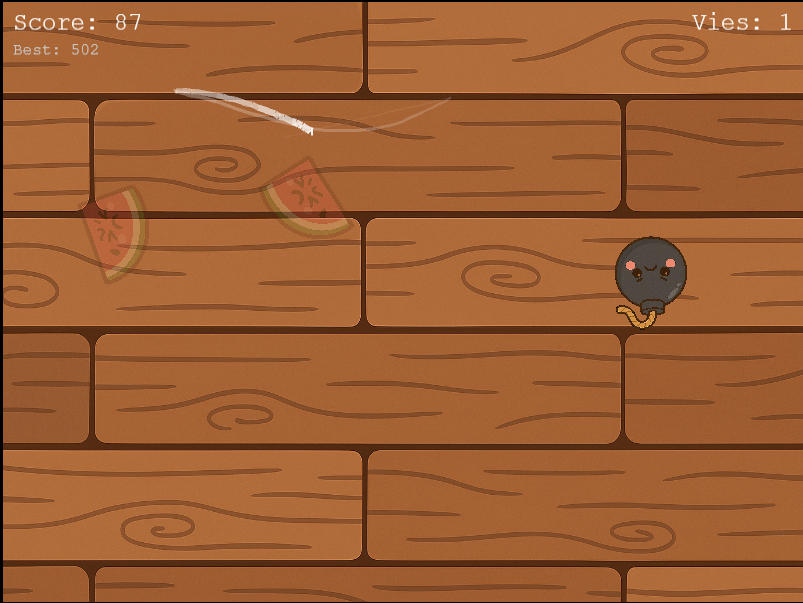bomb: (608, 230, 690, 337)
